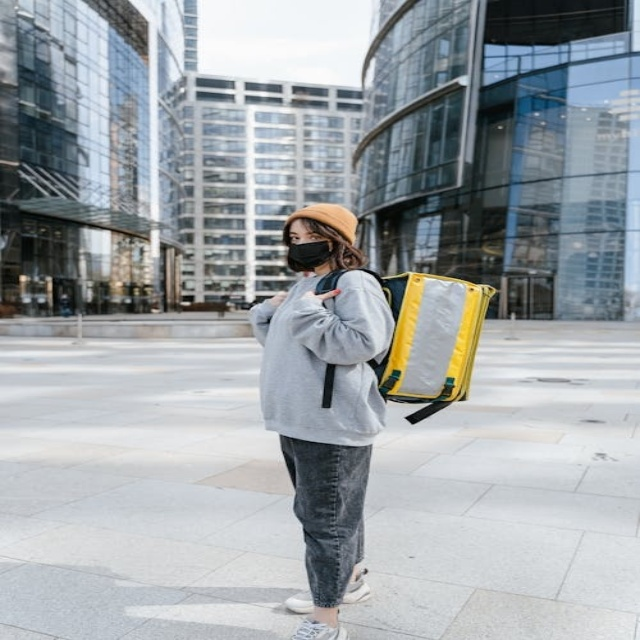Mascara: (288, 240, 334, 268)
Sin_gafas: (287, 229, 317, 240)
